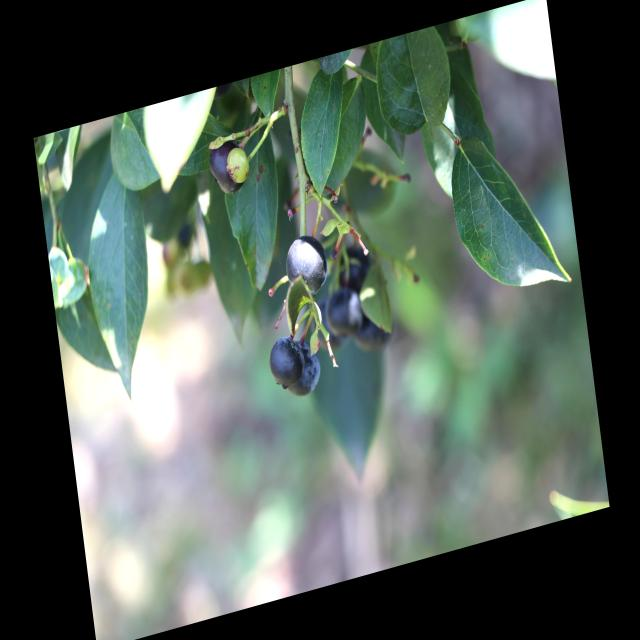blueberry: (279, 228, 329, 304), (204, 134, 254, 202), (284, 337, 326, 401), (321, 282, 363, 342), (266, 332, 308, 391), (330, 238, 374, 294), (362, 299, 404, 356)
blueberry-unripe: (225, 143, 256, 189)
